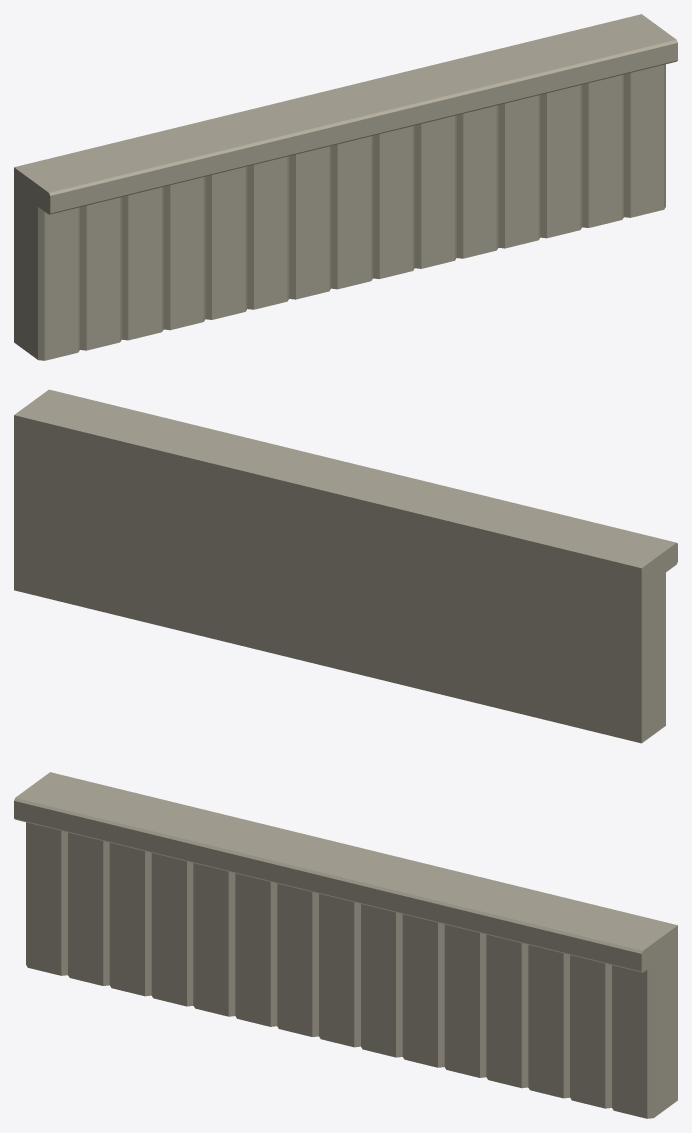
File: victorian_wall_display_window_1_base.fbx
3 renders of one model, top to bottom at view 1: azimuth 30°, elevation 25°; view 2: azimuth 150°, elevation 25°; view 3: azimuth 330°, elevation 25°, orthographic.
Parts seen in each view (by area): view 1: Cube.219; view 2: Cube.219; view 3: Cube.219.
Boxes of the visible parts, x1,y1,x2,y2 form: Cube.219: (14,14,677,360); Cube.219: (14,389,677,743); Cube.219: (14,772,677,1118).
Size of the model in its own units: 300 by 80 by 30.
